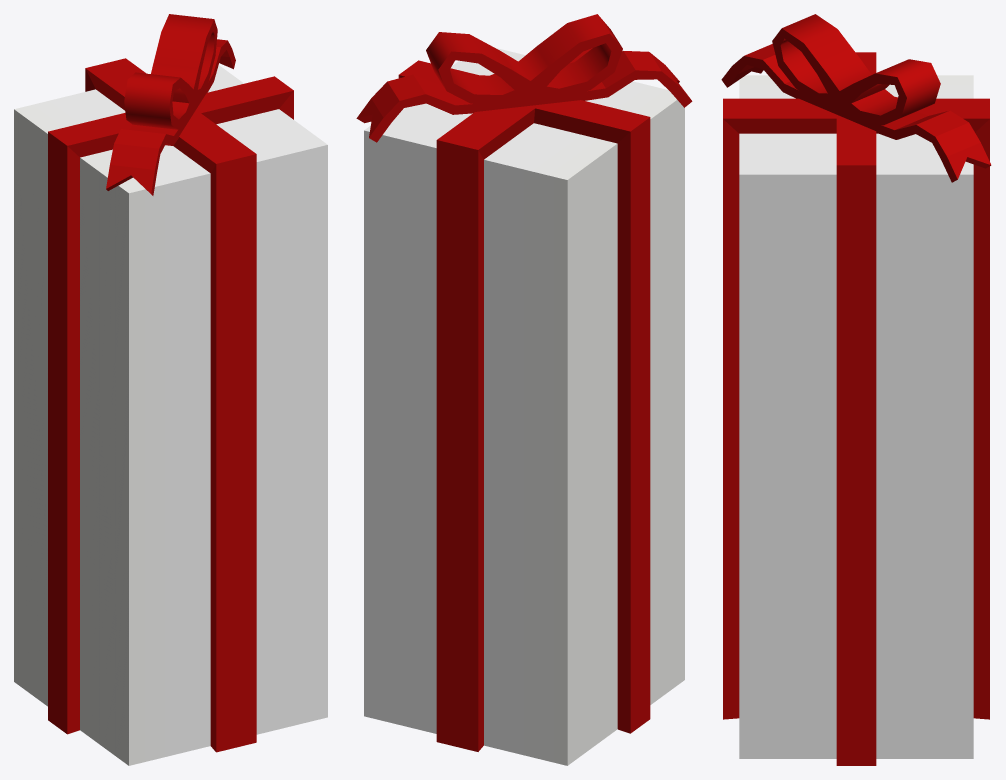
The model's file is Presents8.fbx.
3 renders of one model, left to right at view 1: azimuth 30°, elevation 25°; view 2: azimuth 150°, elevation 25°; view 3: azimuth 270°, elevation 25°, orthographic. The views are drawn at different scales.
Parts seen in each view (by area): view 1: Present8; view 2: Present8; view 3: Present8.
Boxes of the visible parts, x1=… form: Present8: x1=14, y1=14, x2=327, y2=765; Present8: x1=356, y1=14, x2=692, y2=765; Present8: x1=721, y1=14, x2=991, y2=765.
Bounding box in the file's own units: 46.08 × 125 × 46.08.
